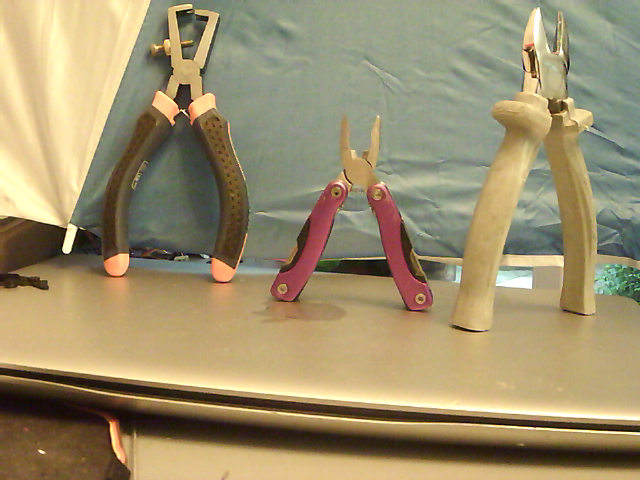pliers: (448, 5, 600, 335), (268, 105, 437, 315)
